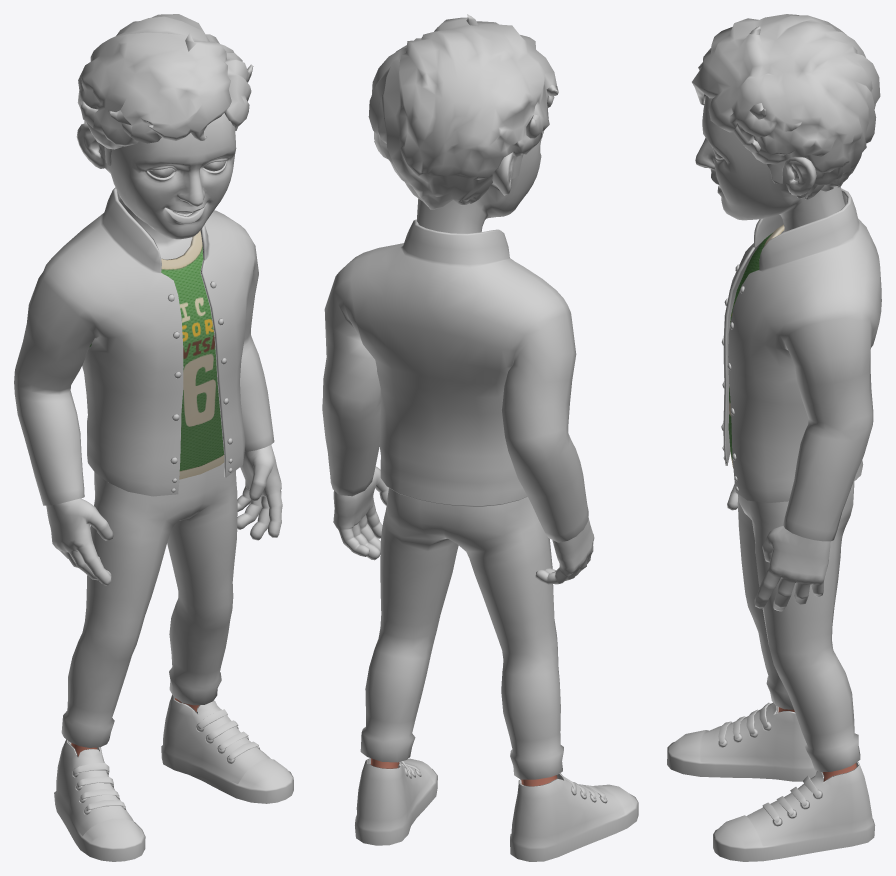
File: Male_LOD_A_Pose_Tex.gltf
The picture shows the model from 3 angles, left to right: view 1: azimuth 30°, elevation 25°; view 2: azimuth 150°, elevation 25°; view 3: azimuth 270°, elevation 25°; orthographic projection. The views are drawn at different scales.
Parts seen in each view (by area): view 1: Jacket_01_Geo2, Trouser_01_Geo2, Basebody_Geo2, Hair_01_Geo2, L_Shoe_01_Geo2, TShirt_01_Geo2, R_Shoe_01_Geo2; view 2: Jacket_01_Geo2, Trouser_01_Geo2, Hair_01_Geo2, Basebody_Geo2, R_Shoe_01_Geo2, L_Shoe_01_Geo2; view 3: Jacket_01_Geo2, Hair_01_Geo2, Trouser_01_Geo2, Basebody_Geo2, L_Shoe_01_Geo2, R_Shoe_01_Geo2, TShirt_01_Geo2.
Part boxes in pixels (<box>): Jacket_01_Geo2: <box>14,187,274,505</box>; Trouser_01_Geo2: <box>61,462,237,747</box>; Basebody_Geo2: <box>46,113,282,756</box>; Hair_01_Geo2: <box>77,14,253,165</box>; L_Shoe_01_Geo2: <box>161,695,293,803</box>; TShirt_01_Geo2: <box>89,231,224,479</box>; R_Shoe_01_Geo2: <box>54,739,145,861</box>; Jacket_01_Geo2: <box>322,219,588,542</box>; Trouser_01_Geo2: <box>360,488,563,779</box>; Hair_01_Geo2: <box>368,14,558,209</box>; Basebody_Geo2: <box>333,131,594,786</box>; R_Shoe_01_Geo2: <box>510,773,638,861</box>; L_Shoe_01_Geo2: <box>355,758,437,845</box>; Jacket_01_Geo2: <box>721,188,881,541</box>; Hair_01_Geo2: <box>692,14,880,199</box>; Trouser_01_Geo2: <box>737,482,860,772</box>; Basebody_Geo2: <box>695,95,856,781</box>; L_Shoe_01_Geo2: <box>713,761,875,861</box>; R_Shoe_01_Geo2: <box>667,702,816,781</box>; TShirt_01_Geo2: <box>728,224,784,467</box>.
Size of what is drawn, in the model's own units: 0.5763 by 1.78 by 0.4378.
